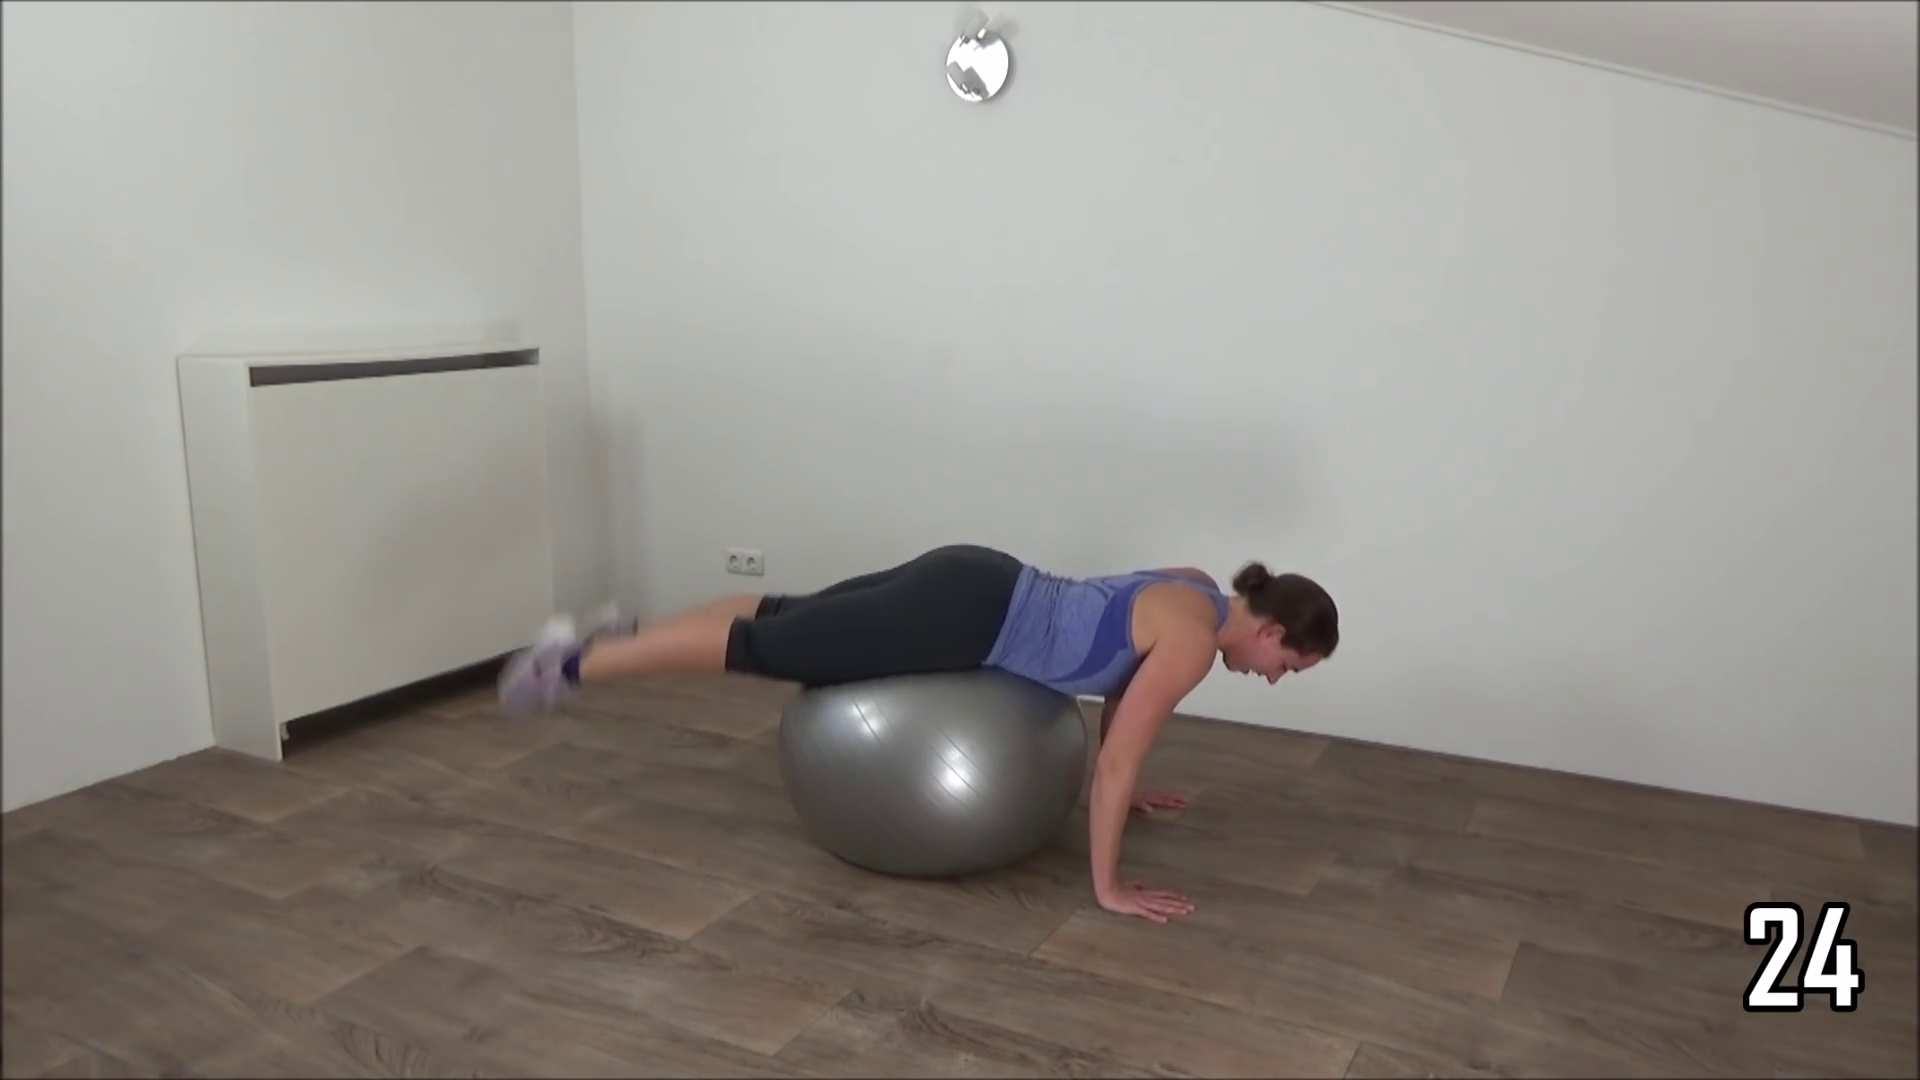yogaball: (757, 641, 1100, 897)
